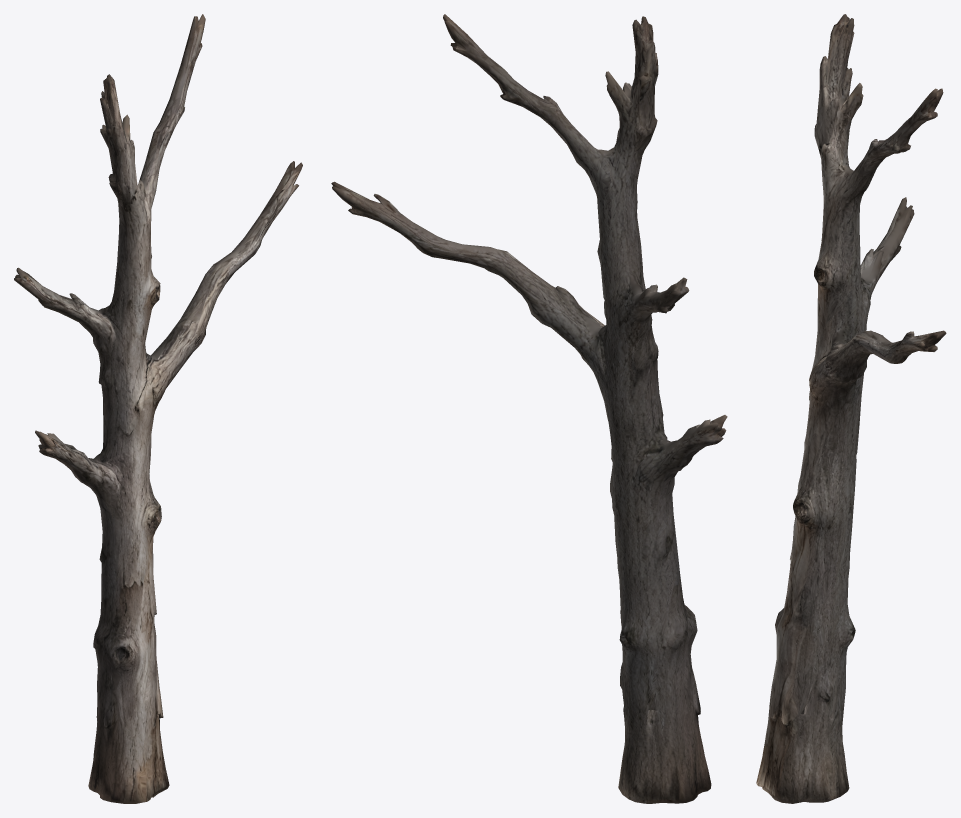
The model's file is Model_BreakableDeadTree.glb.
The picture shows the model from 3 angles, left to right: view 1: azimuth 30°, elevation 25°; view 2: azimuth 150°, elevation 25°; view 3: azimuth 270°, elevation 25°; orthographic projection. The views are drawn at different scales.
Parts seen in each view (by area): view 1: Crown, Stump; view 2: Crown, Stump; view 3: Crown, Stump.
Boxes of the visible parts, box(x1,y1,x2,y2) form: Crown: box(14, 14, 302, 717); Stump: box(88, 692, 169, 803); Crown: box(331, 14, 727, 711); Stump: box(618, 684, 711, 803); Crown: box(772, 14, 946, 713); Stump: box(756, 685, 849, 803).
Bounding box in the file's own units: 3.33 × 7.2 × 1.61.
2 materials, 2 textured.
